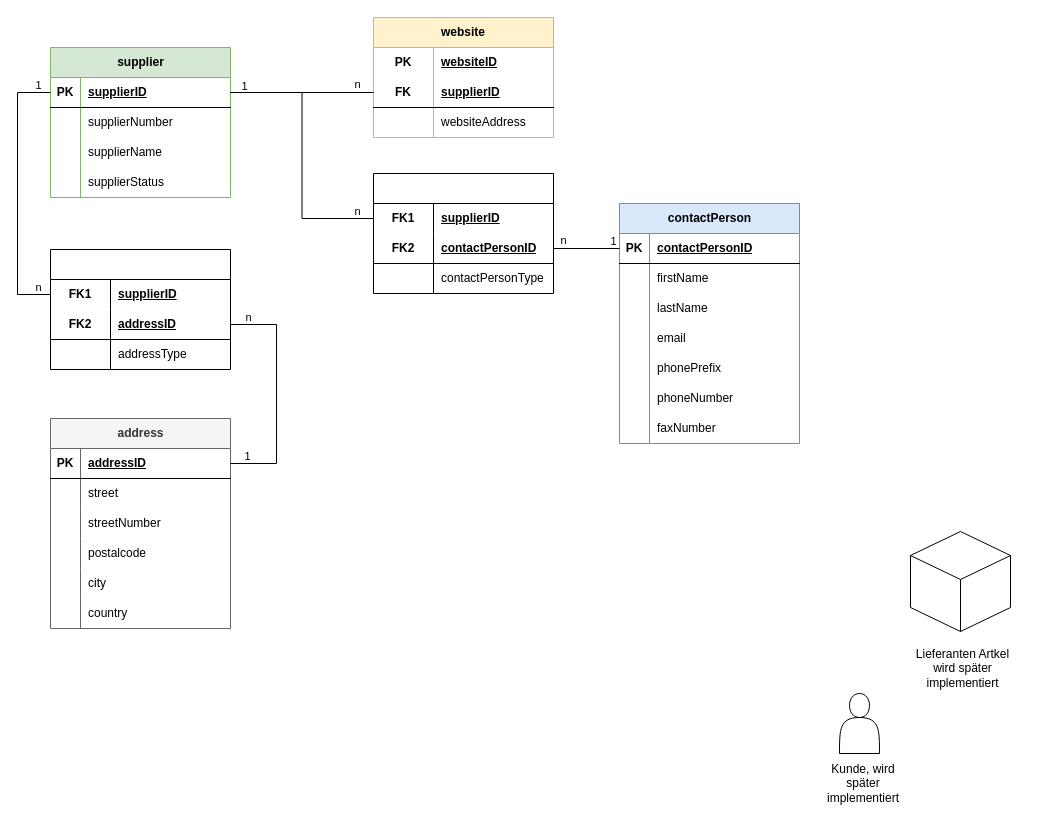
The diagram is 1045 pixels wide and 822 high, and some of its shapes have lost their labels. The box of each missing label's shape, as (x1, y1, x2, y2) in pixels:
supplier_address: (50, 248, 230, 370)
supplier_contactPerson: (372, 172, 554, 294)
